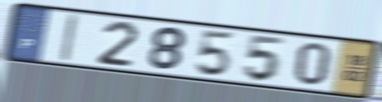0: (292, 41, 335, 87)
2: (94, 19, 140, 69)
5: (192, 28, 239, 78), (242, 33, 288, 83)
8: (146, 25, 187, 72)
I: (58, 13, 81, 64)
